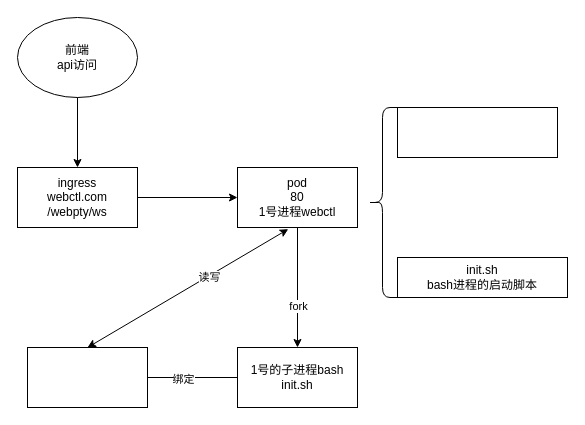
Image size: 585x425. Some labels were removed from this diagram. Here are the shapes that lost their labels. From the top down, the box of each, then its label:
(396, 106, 558, 158): ~/.kube/config 权限文件
(26, 346, 148, 408): pty文件
